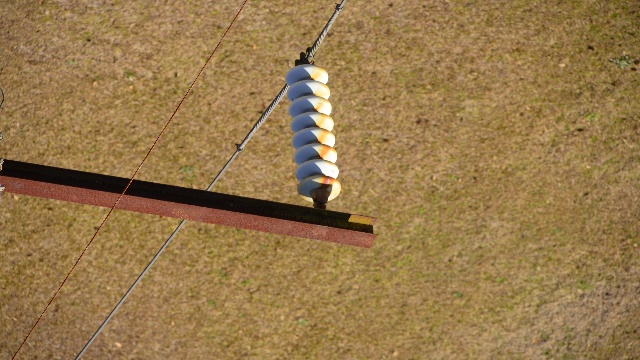insulator_unspecified: (286, 64, 344, 203)
